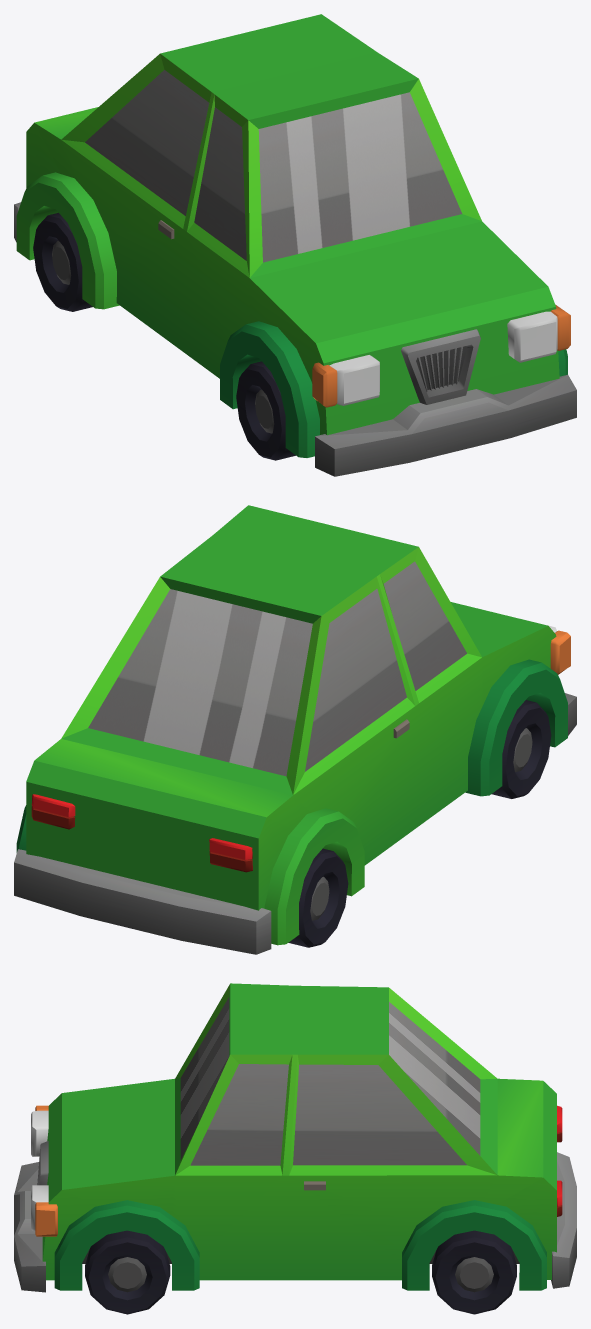
The model's file is Car_4_4.fbx.
3 renders of one model, top to bottom at view 1: azimuth 30°, elevation 25°; view 2: azimuth 150°, elevation 25°; view 3: azimuth 270°, elevation 25°, orthographic. The views are drawn at different scales.
Parts seen in each view (by area): view 1: Car_4_4, BWhel_FR, BWhel_BR; view 2: Car_4_4, BWhel_BR, BWhel_FR; view 3: Car_4_4, BWhel_FL, BWhel_BL.
Boxes of the visible parts, x1,y1,x2,y2 form: Car_4_4: [14, 14, 576, 476]; BWhel_FR: [236, 361, 295, 460]; BWhel_BR: [33, 212, 92, 311]; Car_4_4: [14, 505, 576, 954]; BWhel_BR: [288, 848, 348, 947]; BWhel_FR: [491, 700, 551, 798]; Car_4_4: [14, 983, 576, 1292]; BWhel_FL: [85, 1230, 170, 1314]; BWhel_BL: [432, 1230, 516, 1314].
Size of the model in its own units: 109 by 109 by 230.
